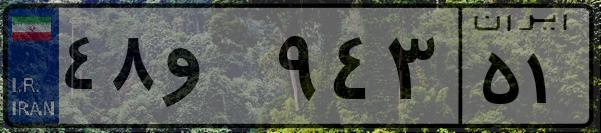1: (525, 38, 570, 115)
3: (385, 28, 445, 110)
4: (330, 28, 385, 110), (57, 26, 110, 100)
5: (475, 38, 525, 113)
8: (110, 28, 158, 98)
9: (270, 28, 330, 110)
و: (158, 20, 270, 120)
